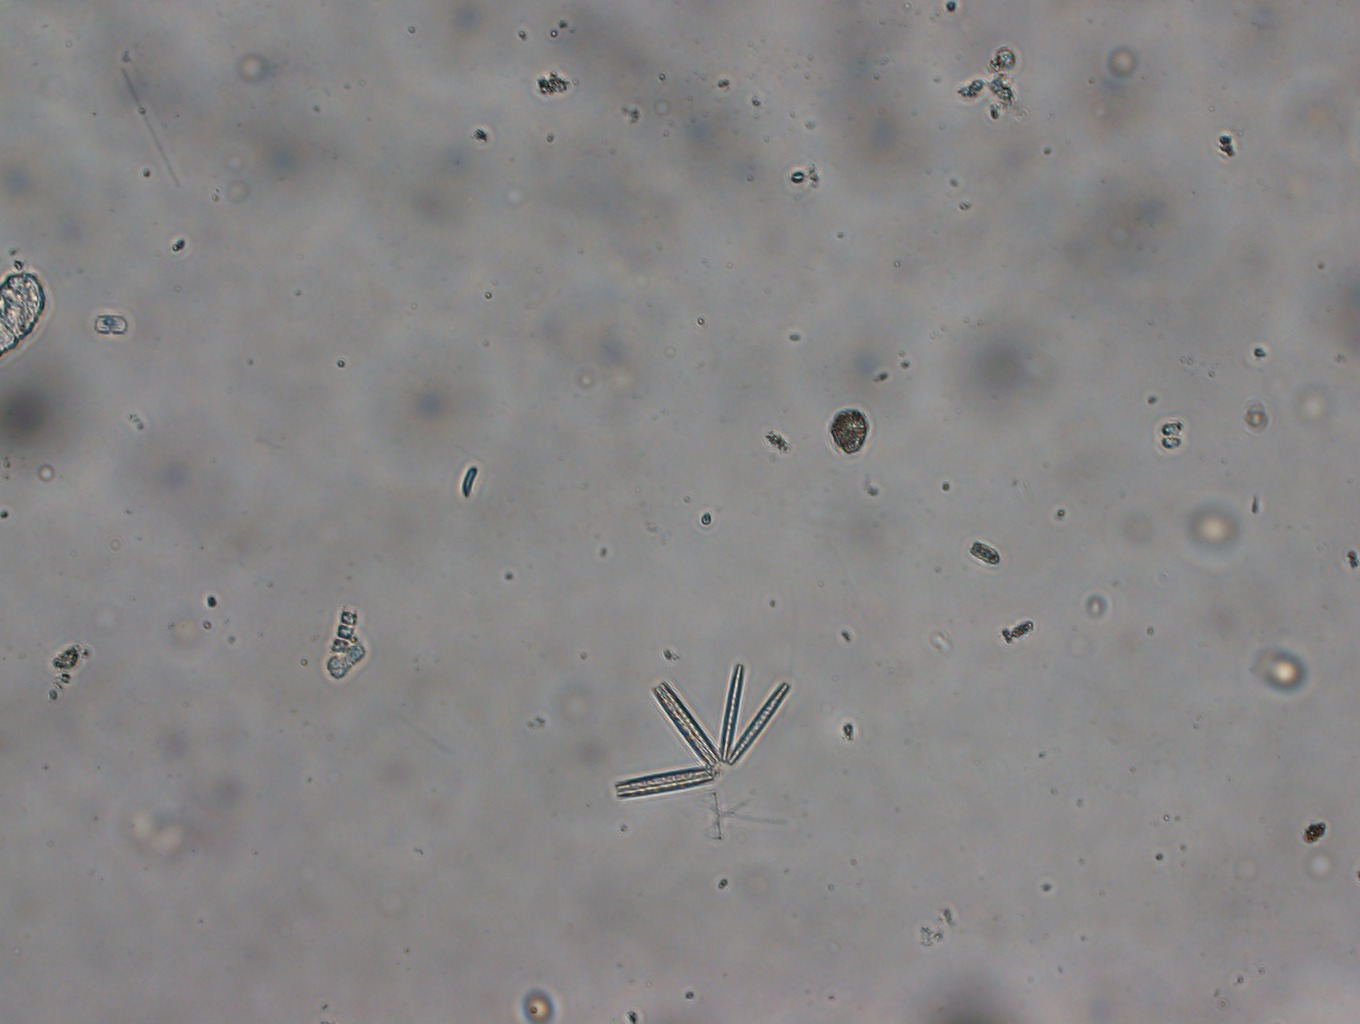thalassionema nitzschioides: (611, 664, 791, 801)
